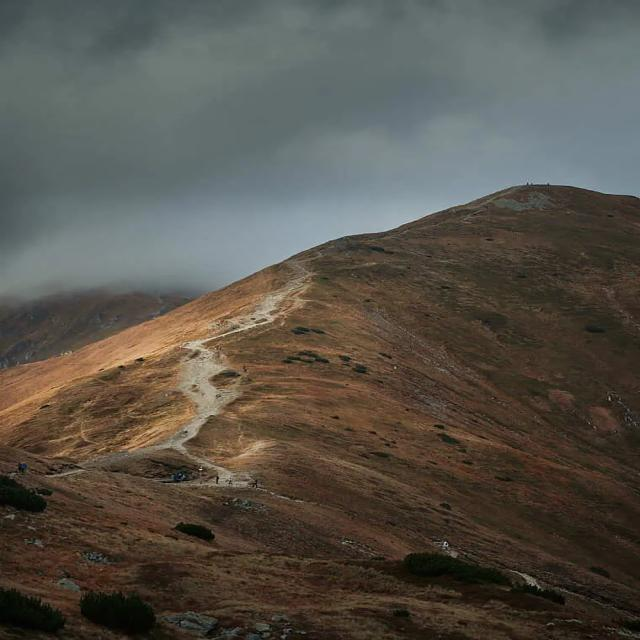Kopa Kondracka: (422, 121, 640, 248)
